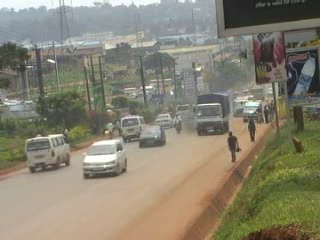Car: (79, 136, 128, 178), (136, 124, 167, 150), (154, 111, 174, 129)
Motorcycle: (171, 111, 183, 135)
